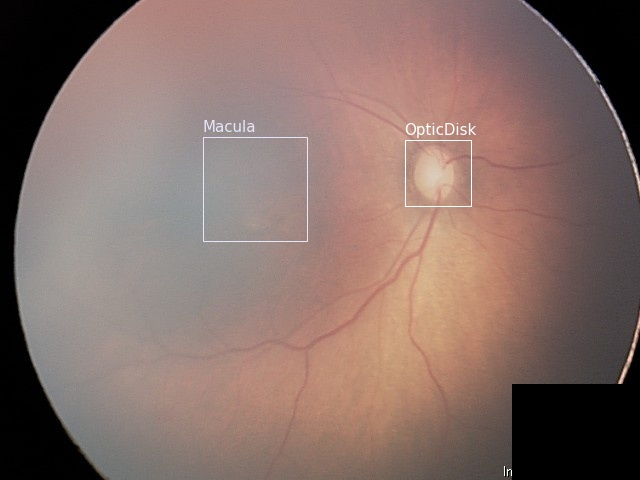Macula: (202, 136, 306, 240)
OpticDisk: (404, 139, 470, 205)
